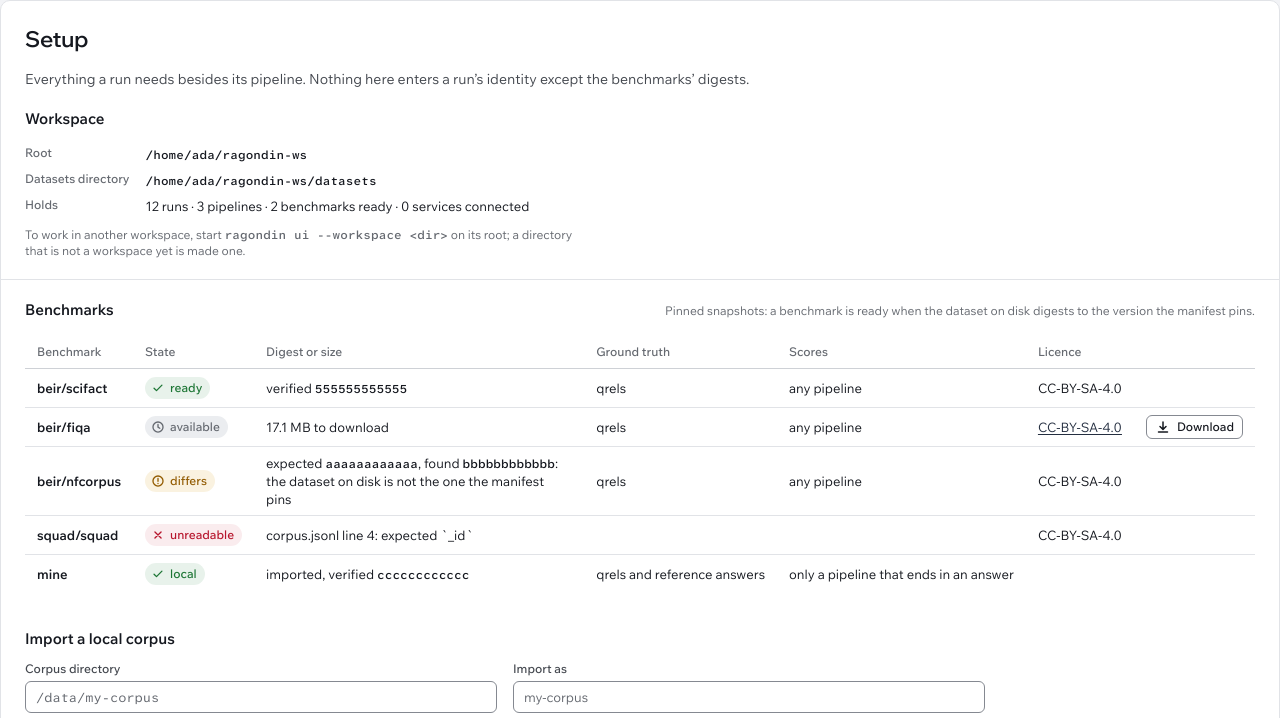
Test: the download, when things go wrong around it › says nothing of the stream before its first connection, which is not a drop
Expected: the text "beir/fiqa" is shown, 37,419 -> 91,435
Click the button "Download" at (1194, 427), box 1146,415 -> 1243,439
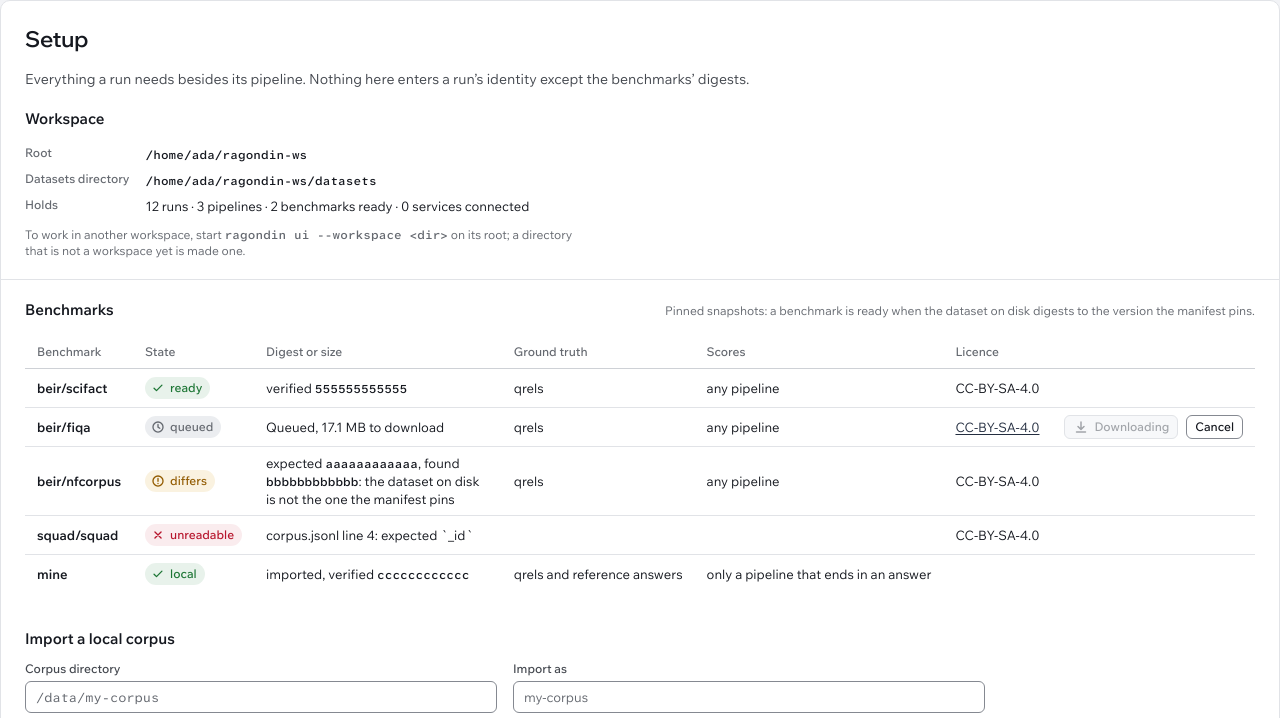
Result: the text "beir/fiqa" shows "queued" at 170,419 -> 213,434
